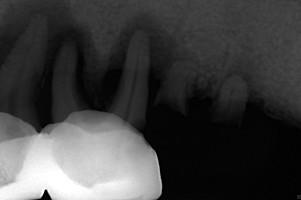Dental Caries: (0, 0, 179, 113)
